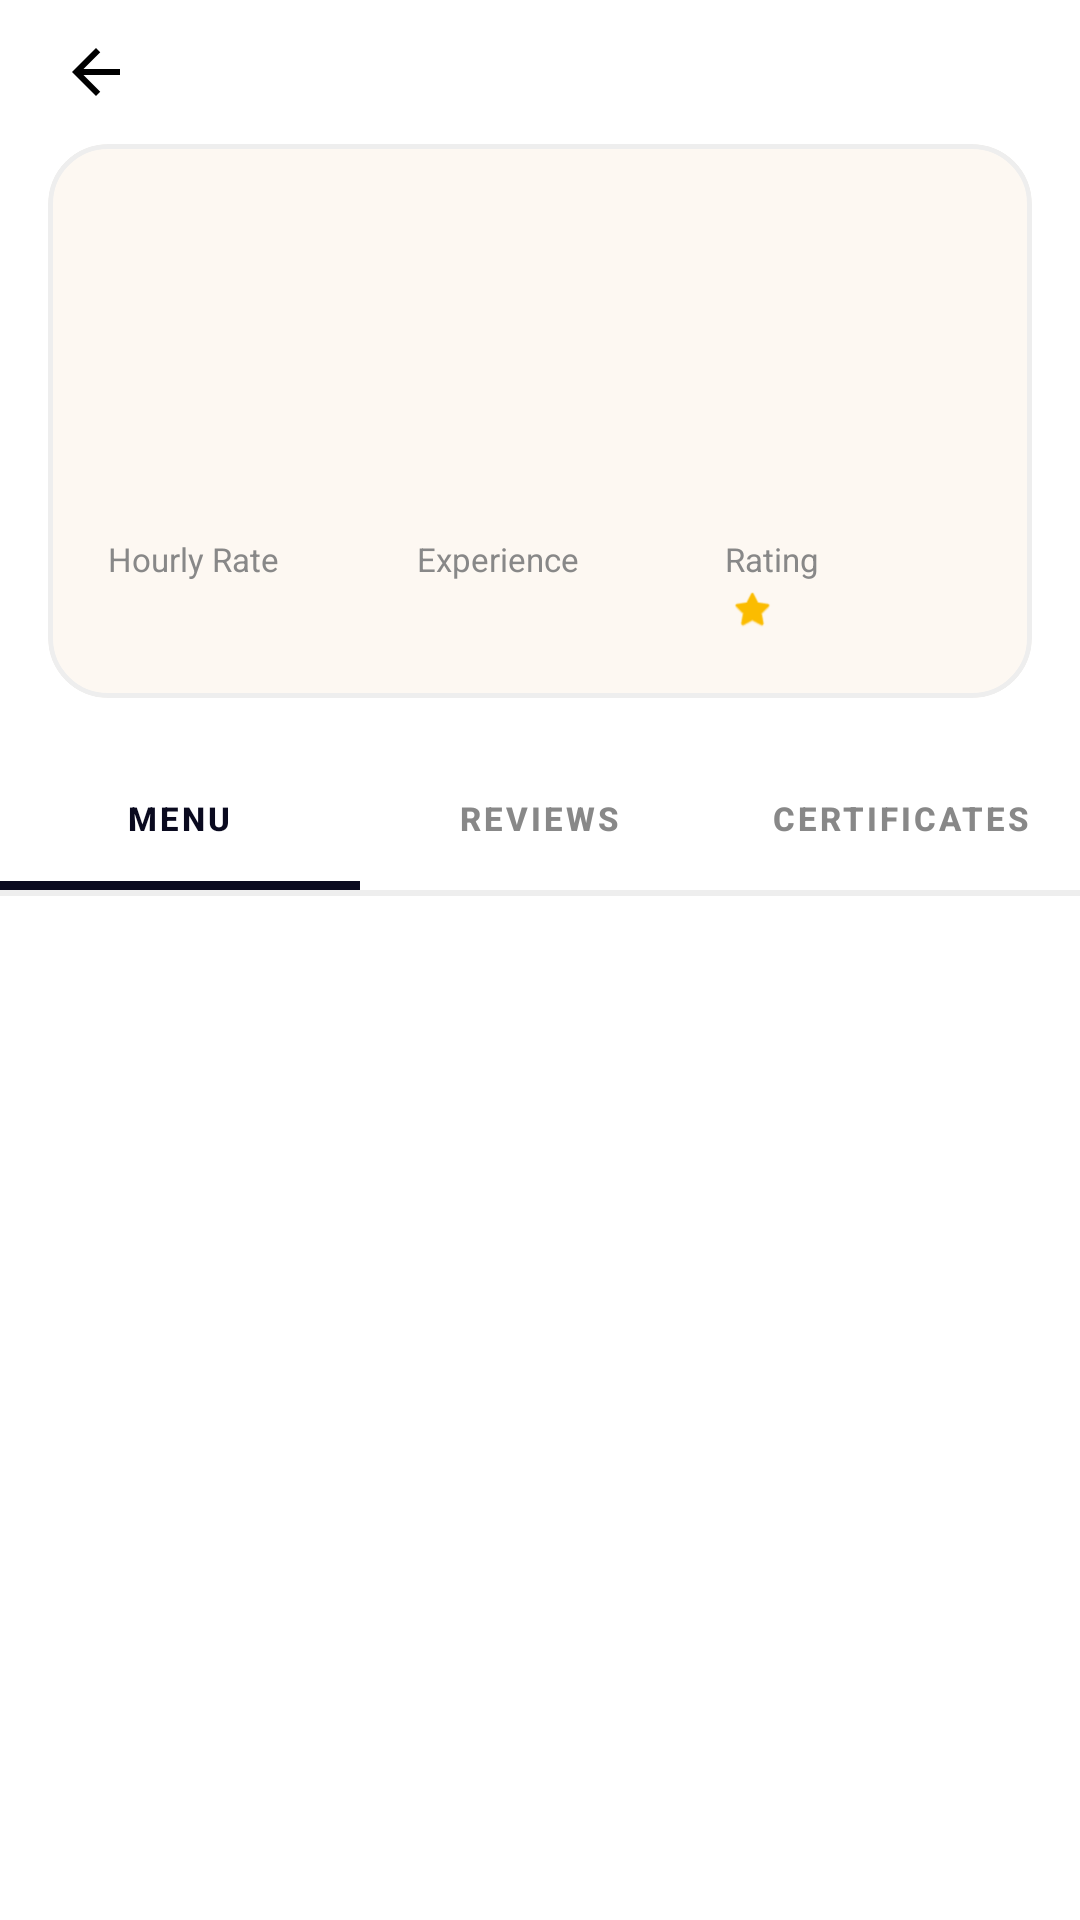

Icons on this 1080x1920 Android screen, each with its box as [left=x1, top=y1, right=x2, bottom=y2]:
back: [left=72, top=48, right=120, bottom=96]
star on: [left=735, top=592, right=770, bottom=626]
